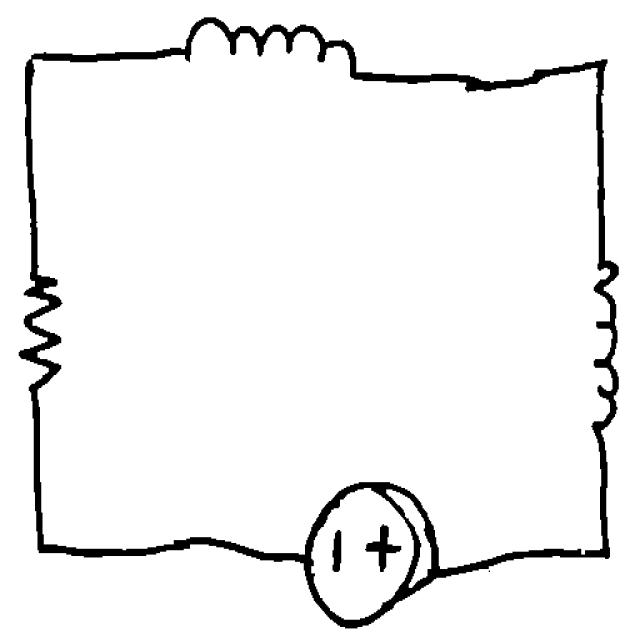dc: (286, 470, 454, 631)
inductor: (171, 5, 365, 109), (583, 243, 623, 443)
resistor: (8, 257, 78, 410)
